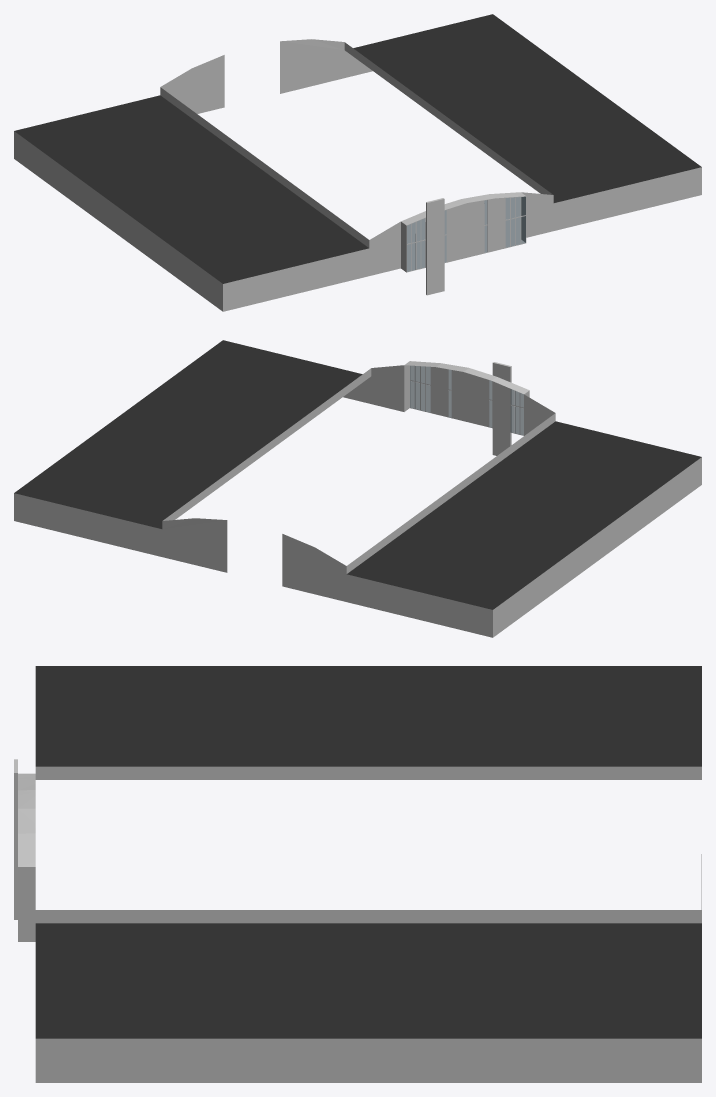
The model's file is RoofAdd.FBX.
3 views of the same model, one above another, from view 1: azimuth 30°, elevation 25°; view 2: azimuth 150°, elevation 25°; view 3: azimuth 270°, elevation 25° (orthographic). The views are drawn at different scales.
Visible parts, largest first — view 1: polySurface771, pCube1547; view 2: polySurface771, pCube1547; view 3: polySurface771, pCube1547.
Part boxes in pixels (x1=…): polySurface771: x1=14, y1=14, x2=701, y2=311; pCube1547: x1=426, y1=198, x2=444, y2=295; polySurface771: x1=14, y1=340, x2=701, y2=637; pCube1547: x1=492, y1=362, x2=511, y2=455; polySurface771: x1=18, y1=666, x2=701, y2=1082; pCube1547: x1=14, y1=759, x2=17, y2=919.
Bounding box in the file's own units: 103 × 18.95 × 80.34.
